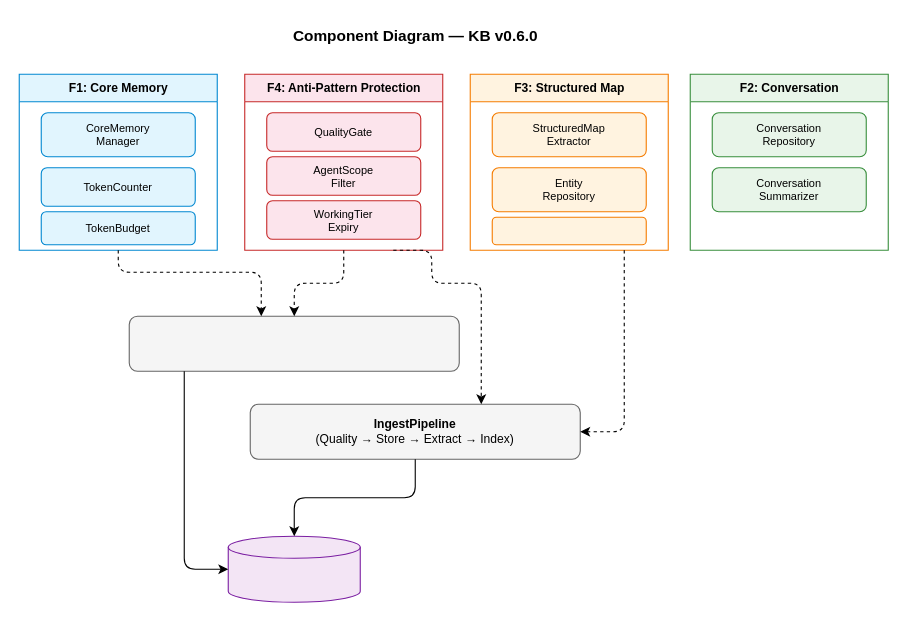
Some shapes in this 908 by 622 pixel diagram are drawn without their labels. Here are the shapes that lost their labels. From the top down, the centre of each, then its label:
At pixel 568 230: "EntityClassifier".
At pixel 293 343: "HybridSearch (BM25 + Graph + Vector + RRF)".
At pixel 293 568: "SQLite better-sqlite3".
